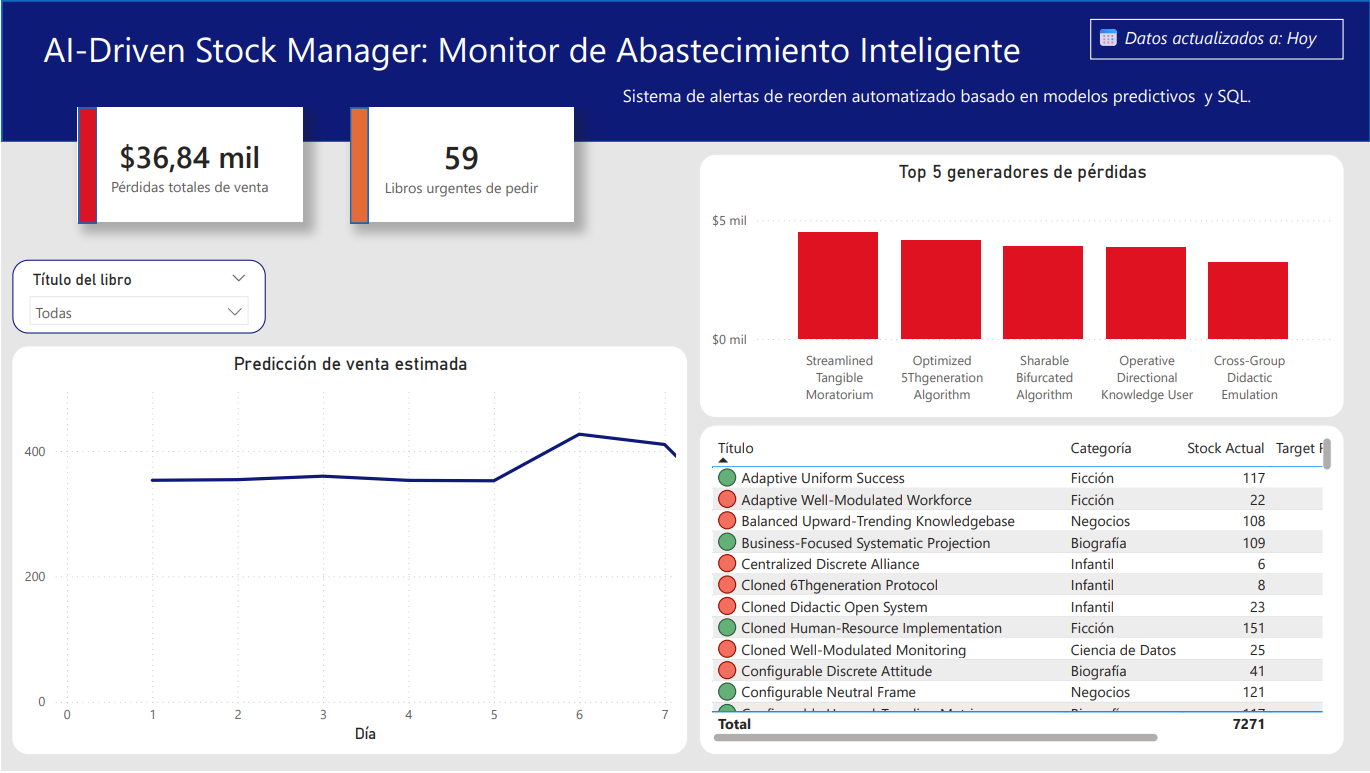

What the dashboard file says about the page in this screenshot:
{"tool":"powerbi","page":{"name":"Página 1","canvas":[1280,720],"ordinal":0},"visuals":[{"type":"shape","box":[0,0,1280,131.9],"z":0},{"type":"cardVisual","fields":{"Data":["public libros.Libros_pedir_hoy"]},"box":[325.9,100.4,208.6,107.1],"z":0,"group":"g1"},{"type":"shape","box":[325.9,100.5,16.9,108.3],"z":1000,"group":"g1"},{"type":"tableEx","fields":{"Values":["public libros.titulo","public libros.categoria","public vw_analisis_stock.Stock Actual","public vw_analisis_stock.Target Reorden","Sum(public predicciones_futuras.venta_estimada)"]},"box":[653,397,602.2,306.7],"z":1000},{"type":"cardVisual","fields":{"Data":["public vw_analisis_stock.Total Venta Perdida"]},"box":[71,100.4,210.9,107.1],"z":2000,"group":"g2"},{"type":"lineChart","title":"Predicción de venta estimada","fields":{"Category":["public predicciones_futuras.fecha_prediccion.Variación.Jerarquía de fechas.Día"],"Y":["Sum(public predicciones_futuras.venta_estimada)"]},"box":[10.1,322.5,630.4,381.2],"z":2000},{"type":"slicer","fields":{"Values":["public libros.titulo"]},"box":[10.1,242.5,236.8,68.8],"z":3000},{"type":"columnChart","title":"Top 5 generadores de pérdidas","fields":{"Category":["public libros.titulo"],"Y":["public vw_analisis_stock.Total Venta Perdida"]},"box":[653,144.4,602.2,244.7],"z":4000},{"type":"group","id":"g1","title":"Grupo 1","box":[325.9,100.4,208.6,108.3],"z":5000},{"type":"shape","box":[72.3,100.5,16.9,108.3],"z":5000,"group":"g2"},{"type":"group","id":"g2","title":"Grupo 2","box":[71,100.4,210.9,108.3],"z":6000},{"type":"textbox","box":[33.8,16.9,984.5,66.5],"z":6001},{"type":"textbox","box":[576.3,73.3,642.8,35],"z":6002},{"type":"textbox","box":[1018.4,16.9,236.8,38.3],"z":6003}]}

Visuals, with their boxes in screenshot pixels (x1, y1, x2, y2), scaled from the page's 1280x720 canvas onto the 1370x773 screenshot:
shape: [0,0,1369,142]
cardVisual - public libros.Libros_pedir_hoy: [349,108,572,223]
shape: [349,108,367,224]
tableEx - public libros.titulo x public libros.categoria: [699,426,1343,756]
cardVisual - public vw_analisis_stock.Total Venta Perdida: [76,108,302,223]
"Predicción de venta estimada" lineChart: [11,346,686,756]
slicer - public libros.titulo: [11,260,264,334]
"Top 5 generadores de pérdidas" columnChart: [699,155,1343,418]
"Grupo 1" group: [349,108,572,224]
shape: [77,108,95,224]
"Grupo 2" group: [76,108,302,224]
textbox: [36,18,1090,90]
textbox: [617,79,1305,116]
textbox: [1090,18,1343,59]
